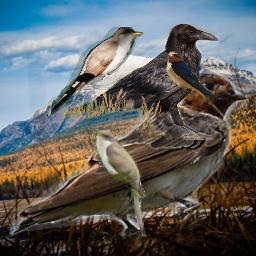Crow: (63, 23, 219, 140)
Cuckoo: (47, 27, 144, 116), (88, 126, 148, 238)
Swallow: (6, 68, 249, 244), (166, 51, 228, 121)
